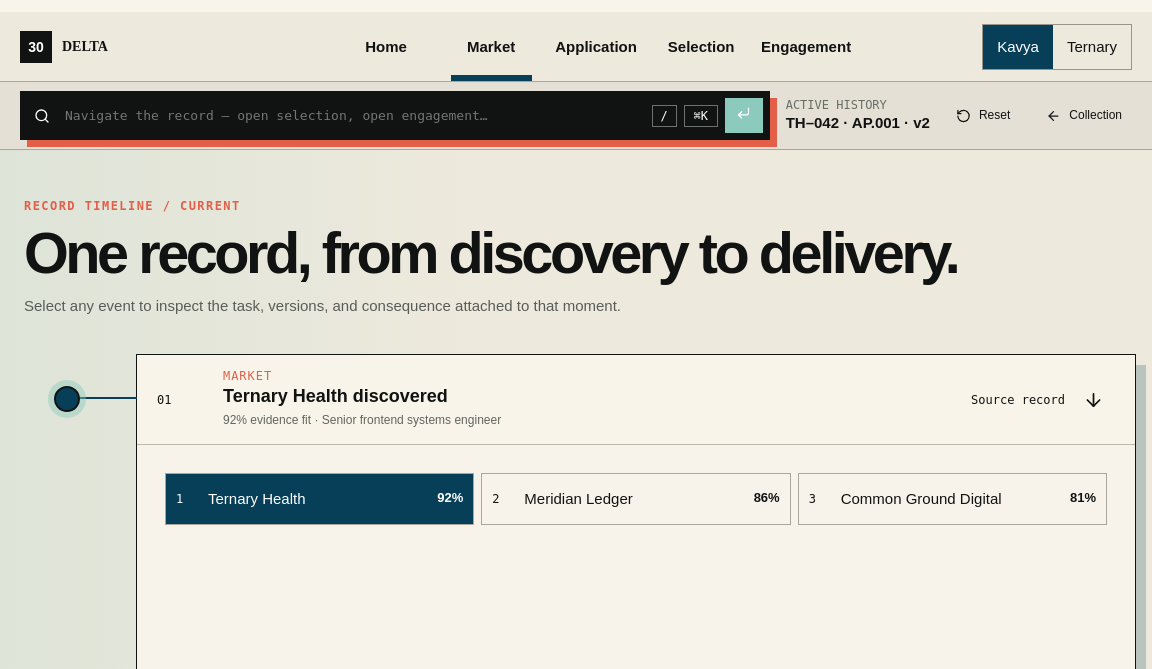
it: Command × Current concept interactions › keeps Delta's simple product navigation semantic
The width and height of the screenshot is (1152, 669).
Click the button "Engagement" at (806, 46), box [754,12,859,81]
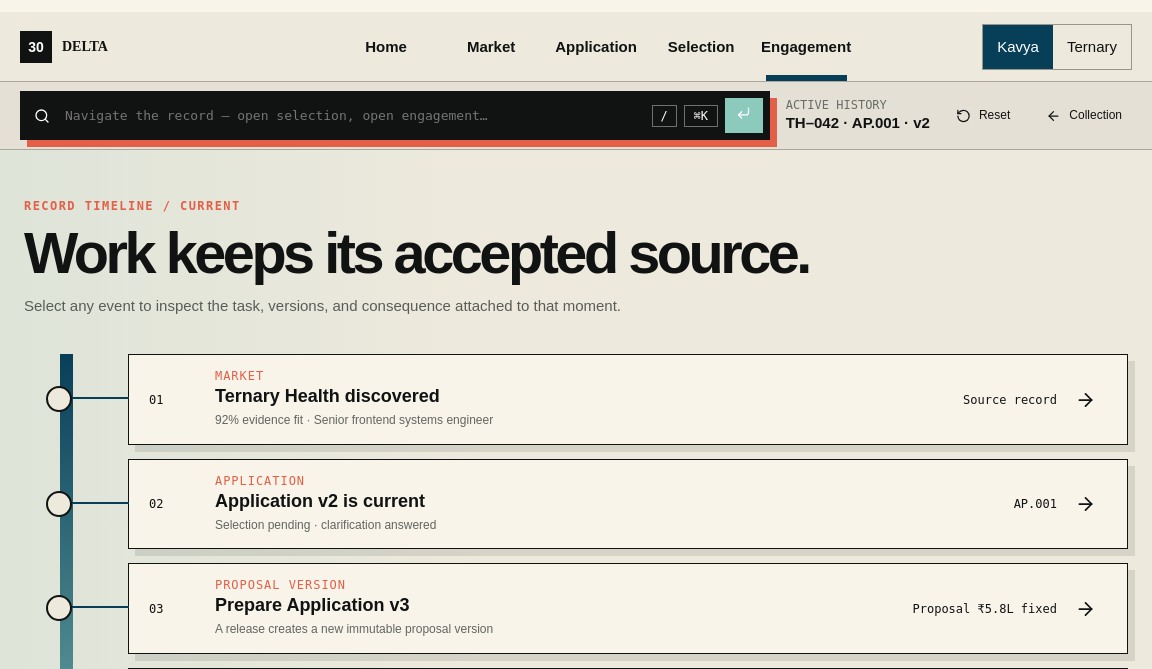
Result: the heading "Work keeps its accepted source." is shown at [24,221,809,285]
